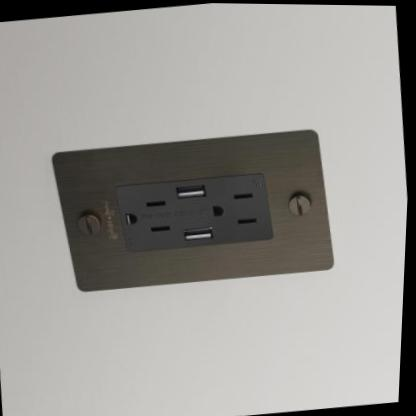OUTLET: (40, 119, 341, 298)
